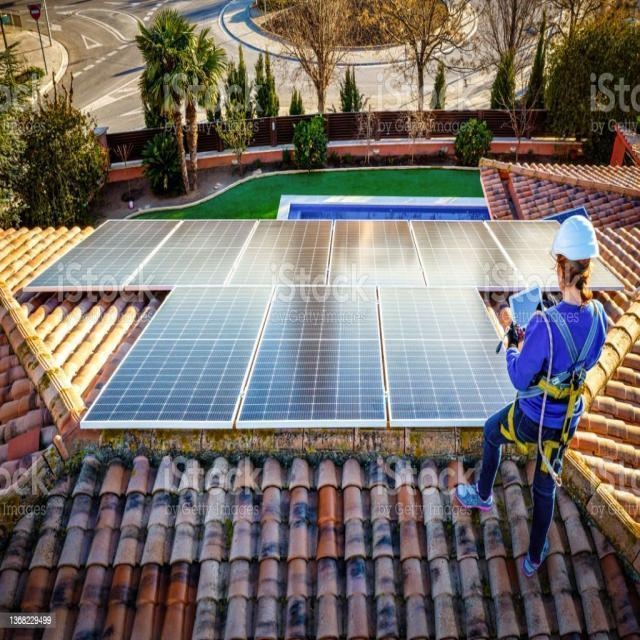Arnes_seguridad: (503, 295, 604, 476)
